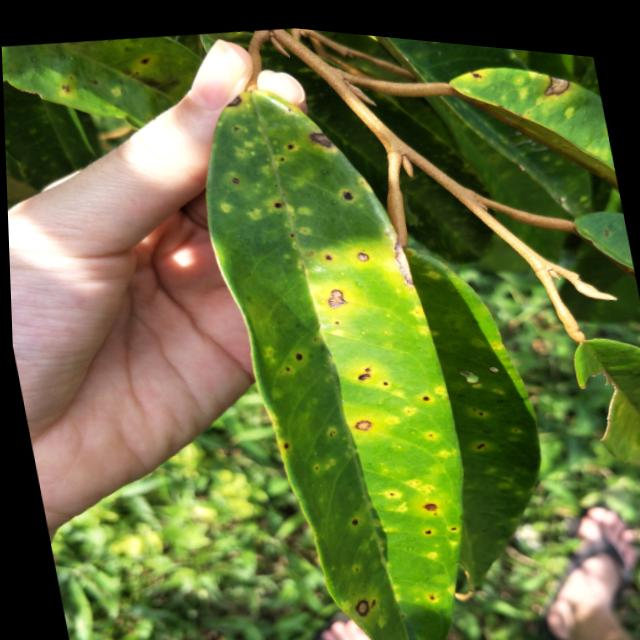Leaf Blight: (364, 201, 425, 294)
Leaf Spot: (230, 145, 349, 274), (261, 317, 404, 403), (318, 485, 387, 546), (524, 48, 589, 102), (307, 109, 351, 156), (312, 272, 360, 315), (344, 585, 392, 626), (338, 401, 387, 436), (417, 486, 445, 519)
